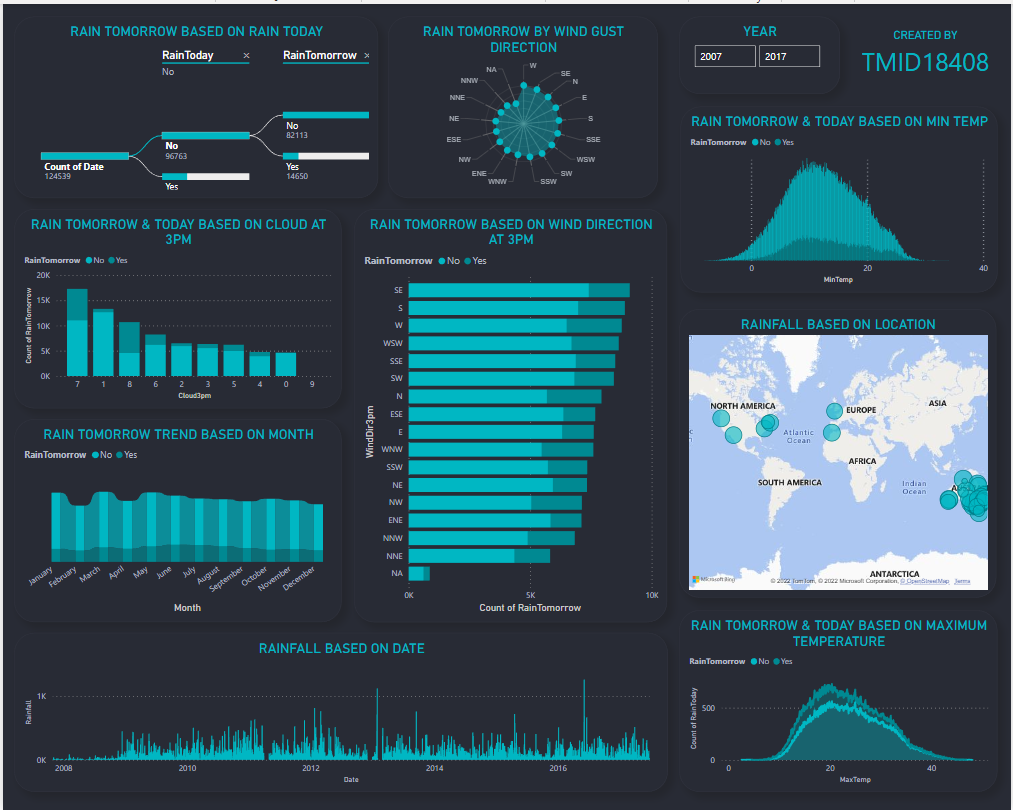

This screenshot's page, from the dashboard's own definition file:
{"tool":"powerbi","page":{"name":"Page 1","canvas":[1500,1200],"ordinal":0},"visuals":[{"type":"columnChart","title":"RAIN TOMORROW & TODAY BASED ON CLOUD AT 3PM","fields":{"Series":["weatherAUS.RainTomorrow"],"Y":["CountNonNull(weatherAUS.RainTomorrow)"],"Category":["weatherAUS.Cloud3pm","weatherAUS.Cloud9am"]},"box":[15.9,304.5,487.6,296.5],"z":0},{"type":"decompositionTreeVisual","title":"RAIN TOMORROW BASED ON RAIN TODAY","fields":{"Analyze":["CountNonNull(weatherAUS.Date)"],"ExplainBy":["weatherAUS.RainToday","weatherAUS.RainTomorrow"]},"box":[15.9,17.9,541.3,270.6],"z":1000},{"type":"ribbonChart","title":"RAIN TOMORROW TREND BASED ON MONTH","fields":{"Category":["weatherAUS.Date.Variation.Date Hierarchy.Month"],"Y":["CountNonNull(weatherAUS.RainTomorrow)"],"Series":["weatherAUS.RainTomorrow"]},"box":[15.9,616.9,487.6,302.5],"z":2000},{"type":"barChart","title":"RAIN TOMORROW BASED ON WIND DIRECTION AT 3PM","fields":{"Category":["weatherAUS.WindDir3pm"],"Y":["CountNonNull(weatherAUS.RainTomorrow)"],"Series":["weatherAUS.RainTomorrow"]},"box":[523.4,304.5,465.7,614.9],"z":3000},{"type":"RadarChart1446119667547","title":"RAIN TOMORROW BY WIND GUST DIRECTION","fields":{"Category":["weatherAUS.WindGustDir"],"Y":["CountNonNull(weatherAUS.RainTomorrow)"]},"box":[573.1,17.9,402,270.6],"z":4000},{"type":"ribbonChart","title":"RAIN TOMORROW & TODAY BASED ON MIN TEMP","fields":{"Category":["weatherAUS.MinTemp"],"Series":["weatherAUS.RainTomorrow"],"Y":["CountNonNull(weatherAUS.Date)"]},"box":[1009,153.2,471.6,276.6],"z":5000},{"type":"stackedAreaChart","title":"RAIN TOMORROW & TODAY BASED ON MAXIMUM TEMPERATURE","fields":{"Category":["weatherAUS.MaxTemp"],"Series":["weatherAUS.RainTomorrow"],"Y":["CountNonNull(weatherAUS.RainToday)"]},"box":[1007,901.5,473.6,270.6],"z":6000},{"type":"map","title":"RAINFALL BASED ON LOCATION","fields":{"Category":["weatherAUS.Location"],"Size":["CountNonNull(weatherAUS.RainTomorrow)"]},"box":[1007,453.7,471.6,429.9],"z":7000},{"type":"clusteredColumnChart","title":"RAINFALL BASED ON DATE","fields":{"Category":["weatherAUS.Date"],"Y":["Sum(weatherAUS.Rainfall)"]},"box":[15.9,935.3,973.1,236.8],"z":8000},{"type":"slicer","title":"YEAR","fields":{"Values":["weatherAUS.Date.Variation.Date Hierarchy.Year"]},"box":[1007,17.9,238.8,115.4],"z":9000},{"type":"textbox","title":"CREATED BY","box":[1265.1,35.3,215.8,80],"z":10000}]}

Visuals, with their boxes in screenshot pixels (x1, y1, x2, y2), scaled from the page's 1500x1200 canvas onto the 1013x810 screenshot:
"RAIN TOMORROW & TODAY BASED ON CLOUD AT 3PM" columnChart: x1=11 y1=206 x2=340 y2=406
"RAIN TOMORROW BASED ON RAIN TODAY" decompositionTreeVisual: x1=11 y1=12 x2=376 y2=195
"RAIN TOMORROW TREND BASED ON MONTH" ribbonChart: x1=11 y1=416 x2=340 y2=621
"RAIN TOMORROW BASED ON WIND DIRECTION AT 3PM" barChart: x1=353 y1=206 x2=668 y2=621
"RAIN TOMORROW BY WIND GUST DIRECTION" RadarChart1446119667547: x1=387 y1=12 x2=659 y2=195
"RAIN TOMORROW & TODAY BASED ON MIN TEMP" ribbonChart: x1=681 y1=103 x2=1000 y2=290
"RAIN TOMORROW & TODAY BASED ON MAXIMUM TEMPERATURE" stackedAreaChart: x1=680 y1=609 x2=1000 y2=791
"RAINFALL BASED ON LOCATION" map: x1=680 y1=306 x2=999 y2=596
"RAINFALL BASED ON DATE" clusteredColumnChart: x1=11 y1=631 x2=668 y2=791
"YEAR" slicer: x1=680 y1=12 x2=841 y2=90
"CREATED BY" textbox: x1=854 y1=24 x2=1000 y2=78
